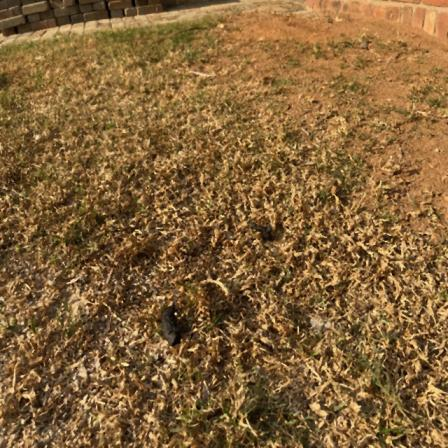dog-poop: (149, 304, 200, 356), (242, 216, 284, 248)
